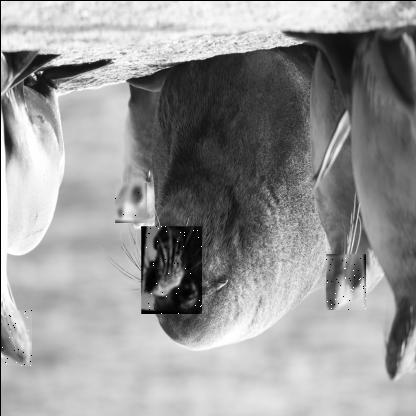face: (139, 224, 201, 313), (324, 252, 365, 309), (0, 308, 31, 365), (113, 181, 146, 222)
